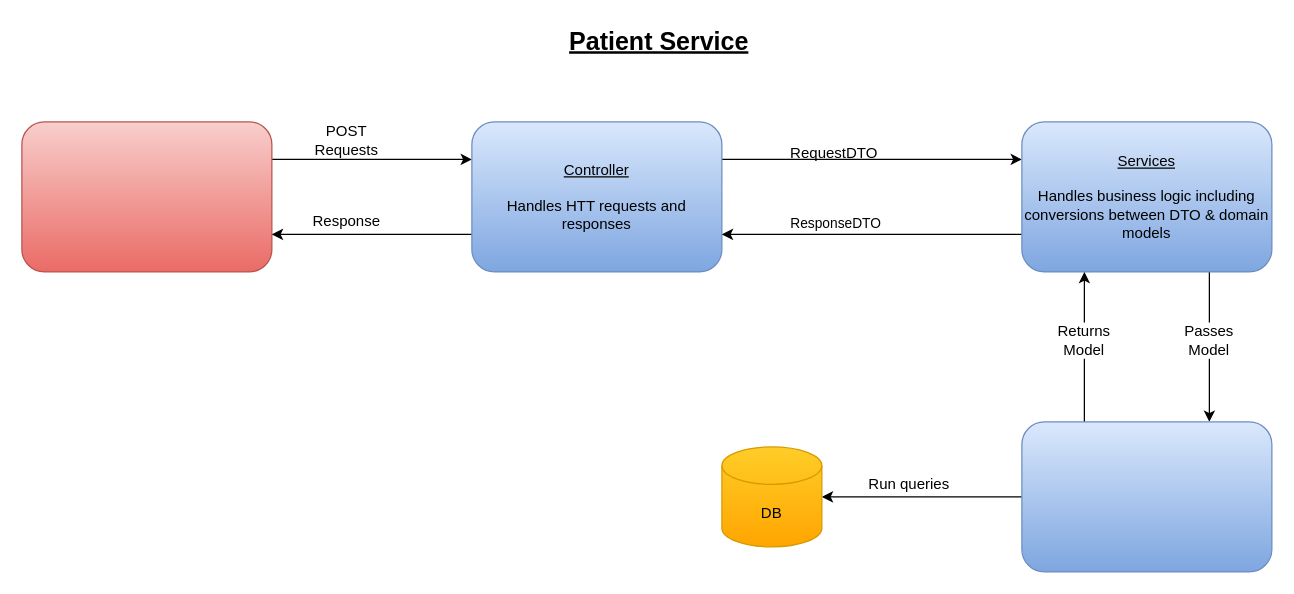
Some shapes in this 1294 by 594 pixel diagram are drawn without their labels. The centre of each missing label's shape, as x and y in pixels:
Front end (Client): point (146, 196)
Repositories Handles interactions with the Database: point (1146, 496)
